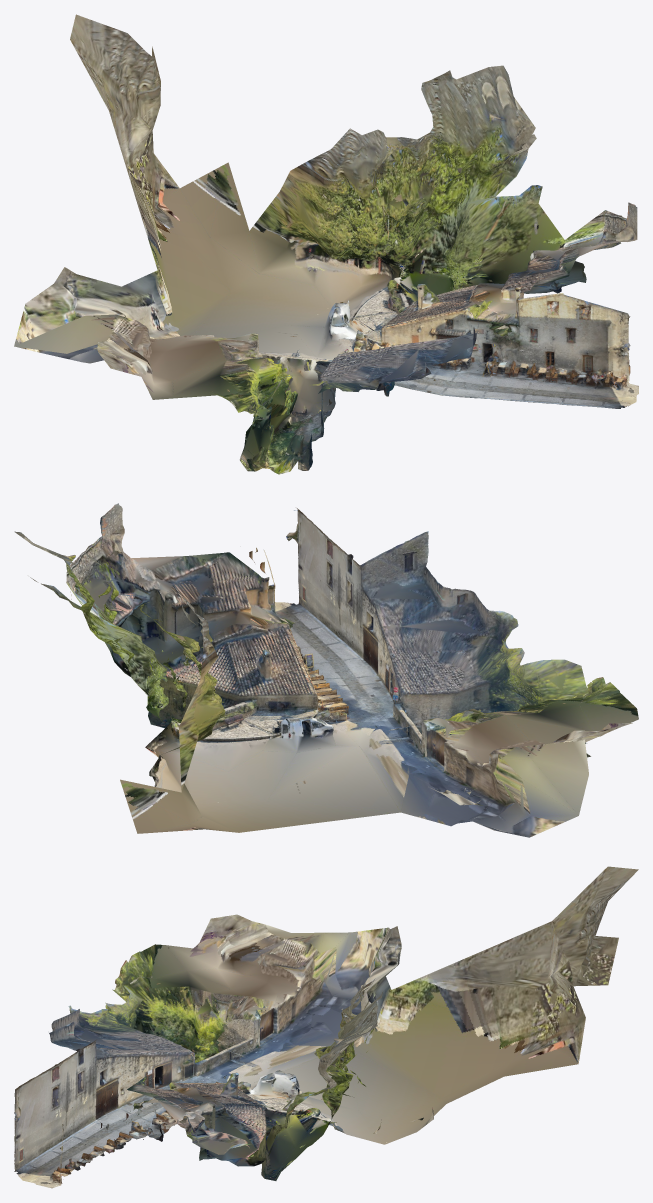
File: medium.glb
The picture shows the model from 3 angles, top to bottom: view 1: azimuth 30°, elevation 25°; view 2: azimuth 150°, elevation 25°; view 3: azimuth 270°, elevation 25°; orthographic projection. The views are drawn at different scales.
Parts seen in each view (by area): view 1: medium.004; view 2: medium.004; view 3: medium.004.
Boxes of the visible parts, x1,y1,x2,y2 form: medium.004: (14,14,638,474); medium.004: (14,503,638,837); medium.004: (14,866,638,1188).
Bounding box in the file's own units: 54.52 × 23.68 × 58.15.
1 material, 1 textured.
